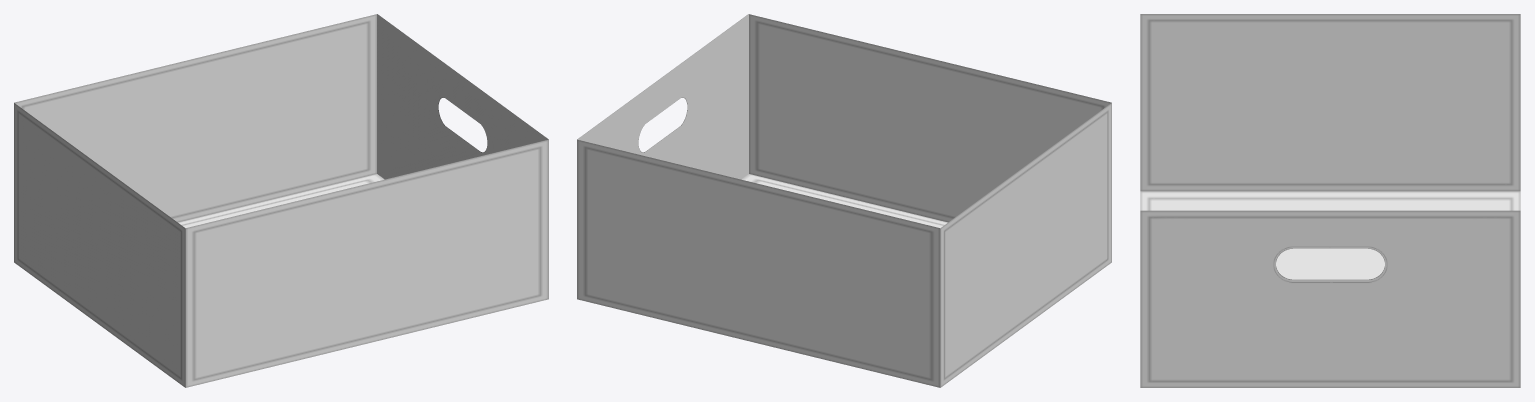
3 views of the same model, side by side, from view 1: azimuth 30°, elevation 25°; view 2: azimuth 150°, elevation 25°; view 3: azimuth 270°, elevation 25° (orthographic). The views are drawn at different scales.
Parts seen in each view (by area): view 1: Joint_0_Object_0, Joint_0_Object_1; view 2: Joint_0_Object_0, Joint_0_Object_1; view 3: Joint_0_Object_0.
Part boxes in pixels (<box>): Joint_0_Object_0: <box>14,14,548,387</box>; Joint_0_Object_1: <box>377,14,547,179</box>; Joint_0_Object_0: <box>577,14,1111,387</box>; Joint_0_Object_1: <box>578,14,748,179</box>; Joint_0_Object_0: <box>1140,14,1520,387</box>.
Size of the model in its own units: 1114 by 468 by 911.
